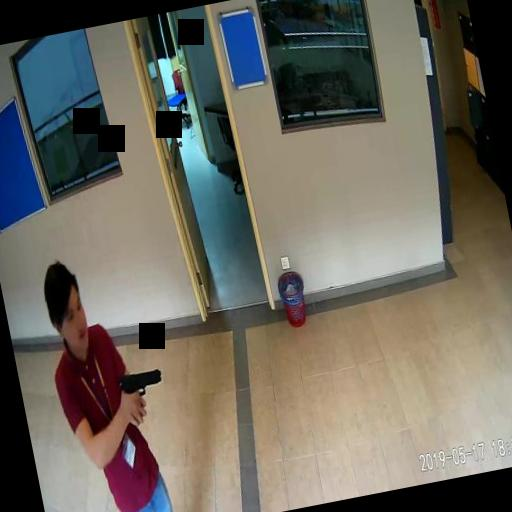Handgun: (117, 366, 166, 416)
